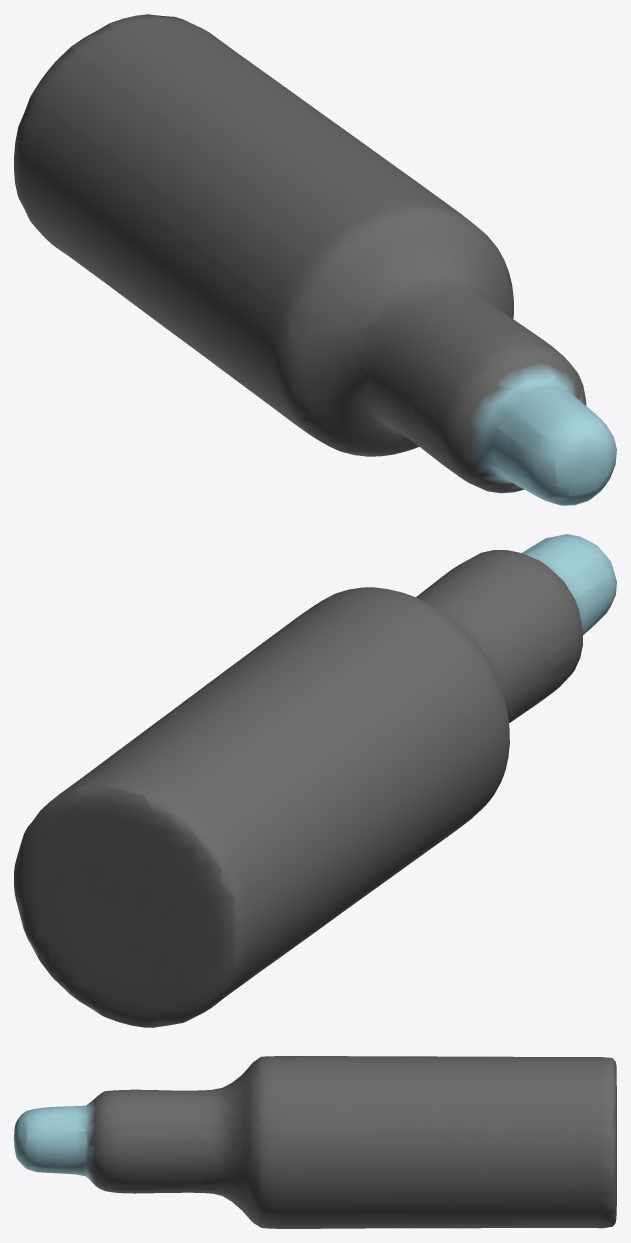
Rendered from a bottle with contain affordance.obj.
The picture shows the model from 3 angles, top to bottom: view 1: azimuth 30°, elevation 25°; view 2: azimuth 150°, elevation 25°; view 3: azimuth 270°, elevation 25°; orthographic projection. The views are drawn at different scales.
Size of the model in its own units: 0.29 by 0.2871 by 1.
